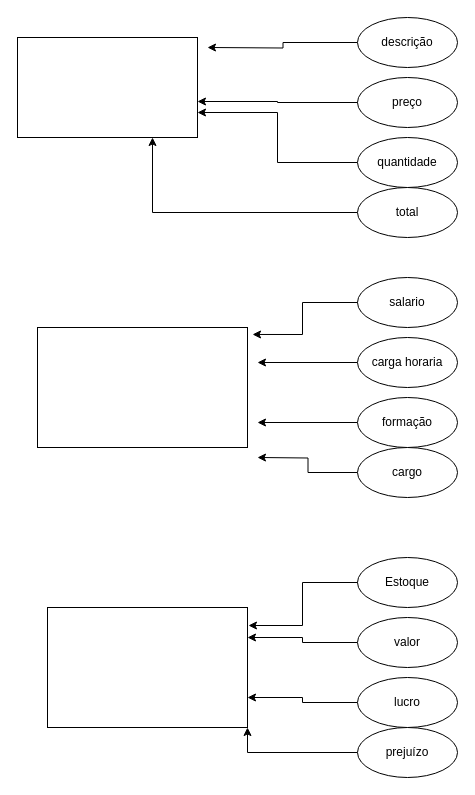
This 475x795 diagram has some shape labels left out. Here are the shapes that lost their labels. From the top down, the box of each, then its label:
(16, 36, 198, 138): PRODUTOS
(36, 326, 248, 448): FUNCIONARIO
(46, 606, 248, 728): VENDAS
